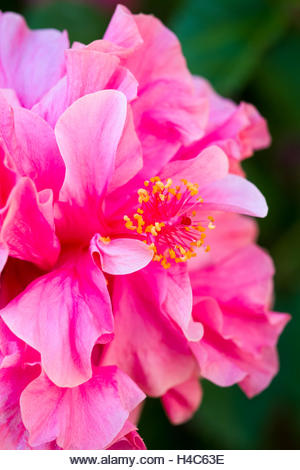Hibiscus: (1, 1, 284, 449)
